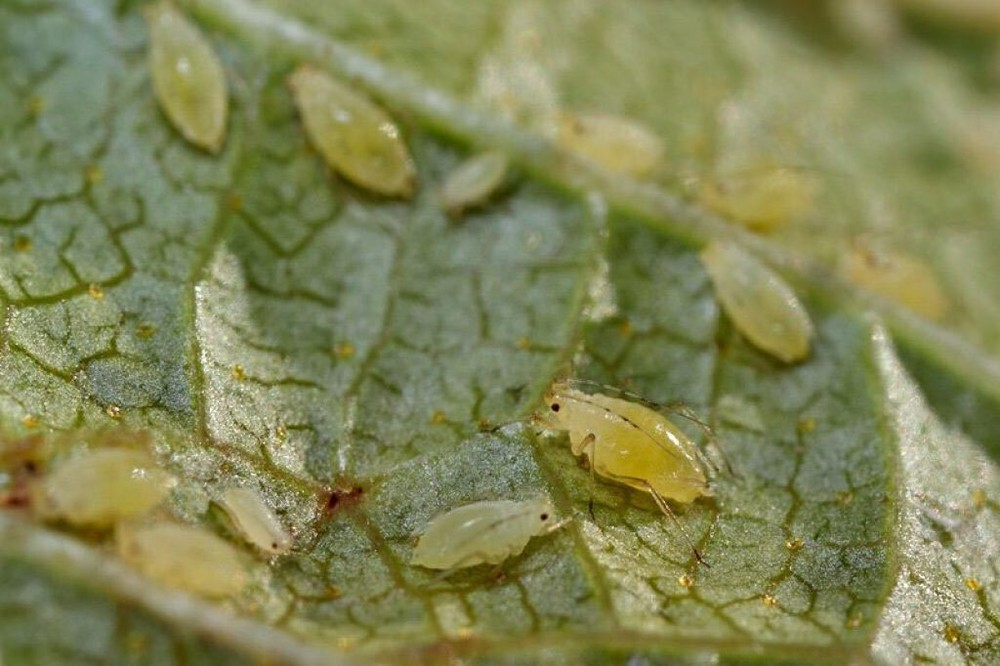Pulgon: (536, 367, 768, 540), (274, 49, 429, 214), (123, 10, 254, 184), (394, 469, 579, 586), (689, 230, 831, 379), (209, 471, 322, 564)
